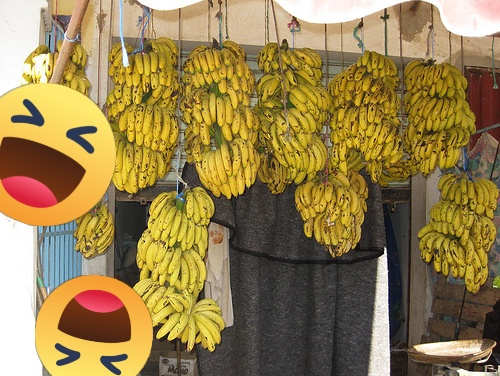haha: (0, 83, 116, 226), (35, 275, 153, 376)
